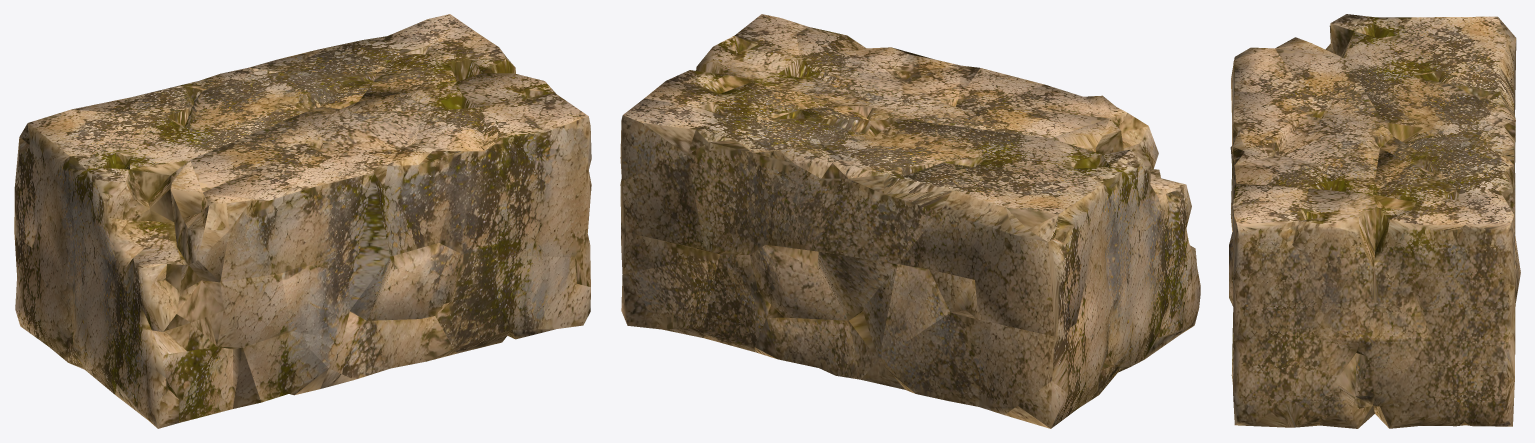
The model's file is ARQ_BloqueMaya_02_LOD1.fbx.
3 renders of one model, left to right at view 1: azimuth 30°, elevation 25°; view 2: azimuth 150°, elevation 25°; view 3: azimuth 270°, elevation 25°, orthographic.
Visible parts, largest first — view 1: ARQ_BloqueMaya_02_Mesh000; view 2: ARQ_BloqueMaya_02_Mesh000; view 3: ARQ_BloqueMaya_02_Mesh000.
Part boxes in pixels (x1,y1,x2,y2): ARQ_BloqueMaya_02_Mesh000: [14, 14, 591, 428]; ARQ_BloqueMaya_02_Mesh000: [620, 14, 1200, 428]; ARQ_BloqueMaya_02_Mesh000: [1229, 14, 1520, 428].
Bounding box in the file's own units: 1.2 × 0.5525 × 0.7.
